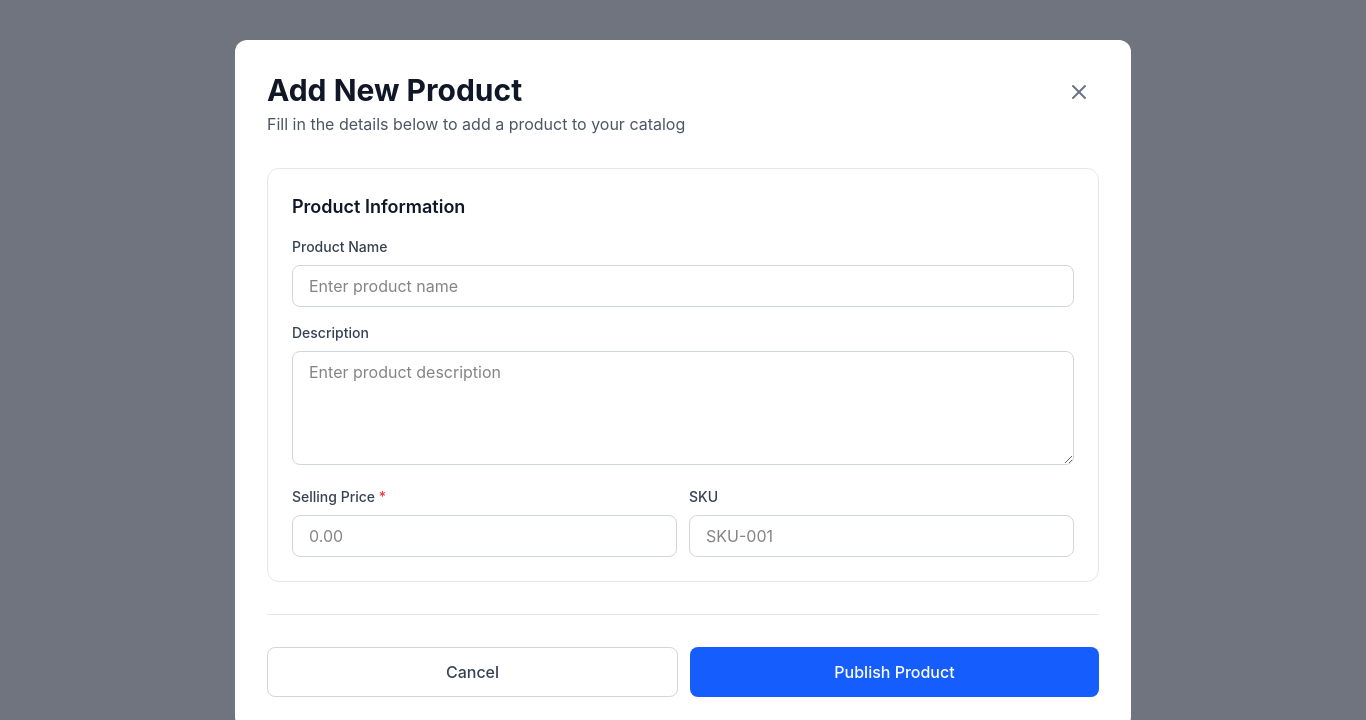
it: AddProduct › shows validation error when product name is missing
The width and height of the screenshot is (1366, 720).
Type "99.99" into the number field with id "modal-base-price" at [484, 536], box [292,514,677,556]
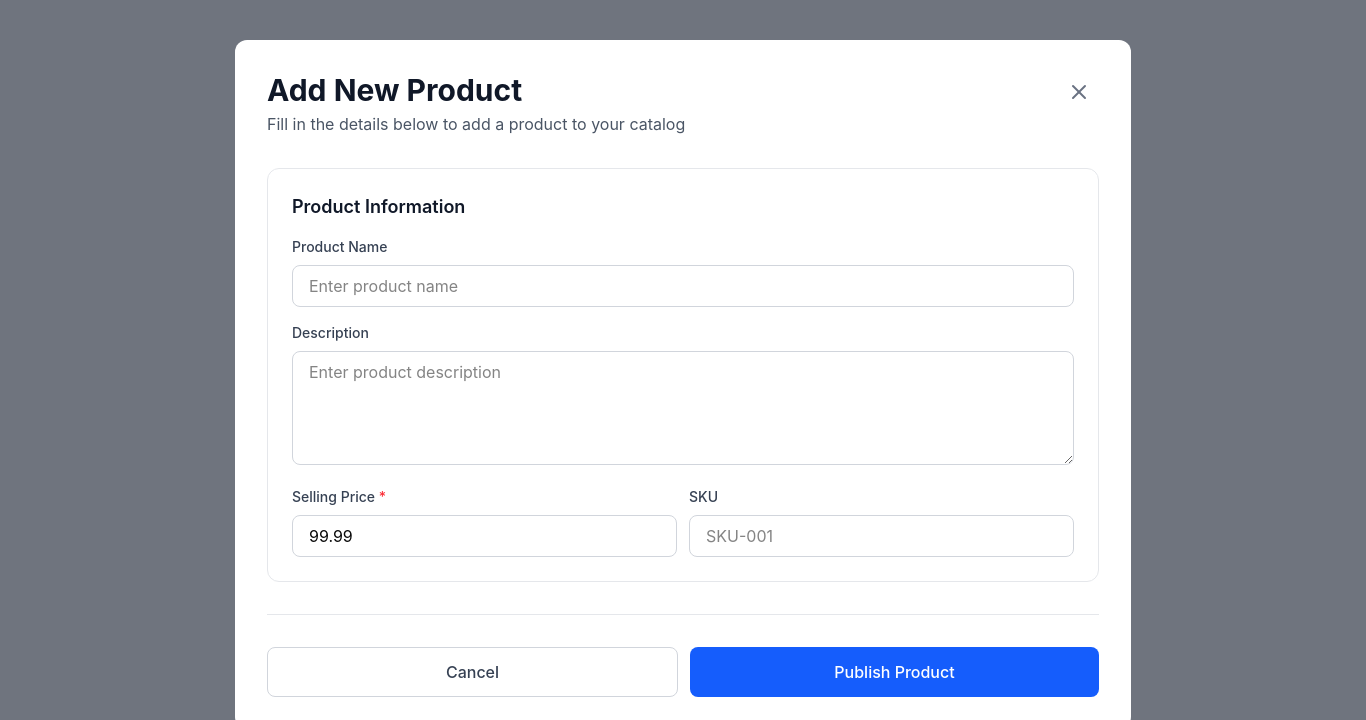
Click the button "Publish Product" at [894, 672], box [690,646,1099,696]
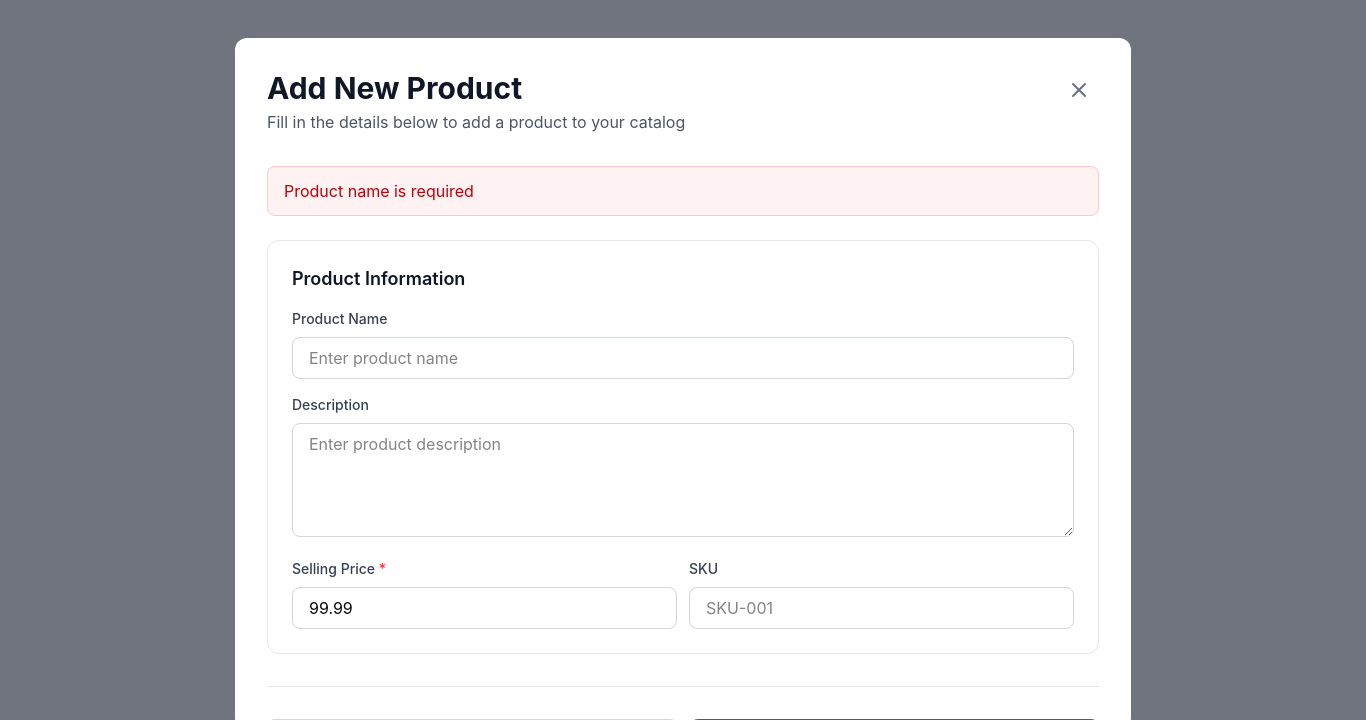
Expected: the text "Product name is required" is shown, [267,166,1099,216]
